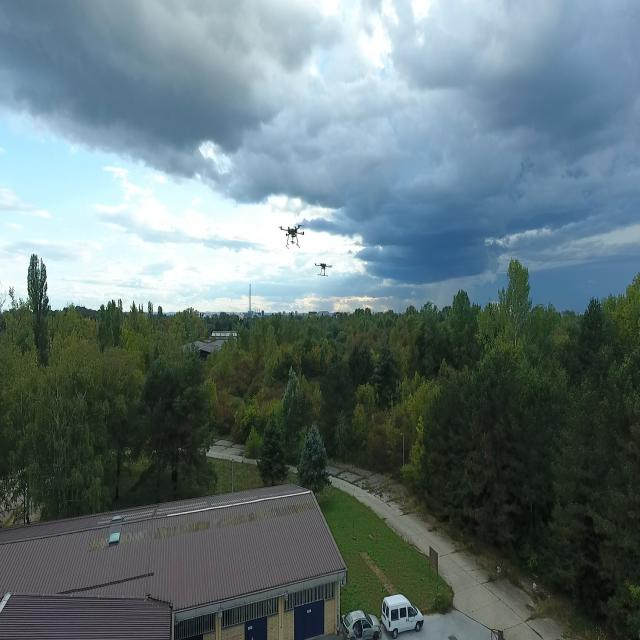UAV: (293, 250, 357, 282), (275, 216, 312, 252)
